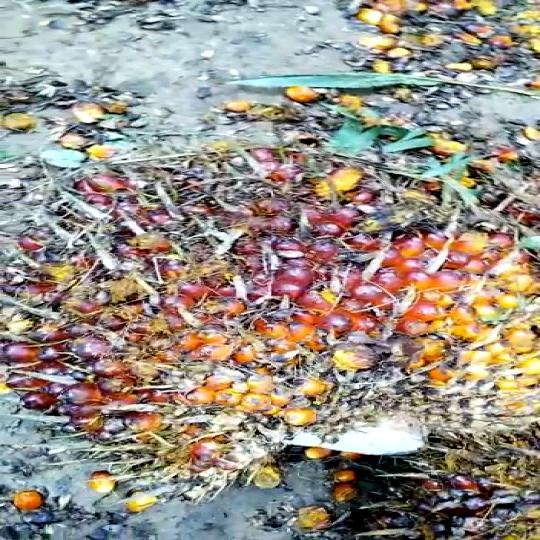masak: (0, 137, 540, 506)
